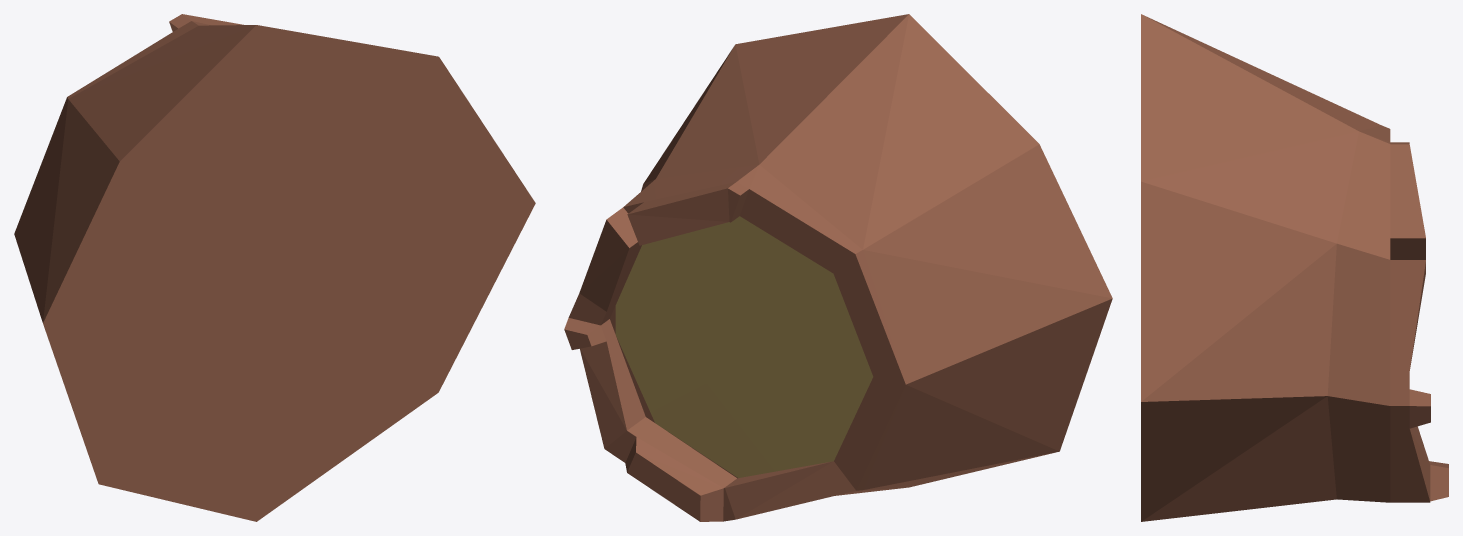
The model's file is Pine1Stump.fbx.
The picture shows the model from 3 angles, left to right: view 1: azimuth 30°, elevation 25°; view 2: azimuth 150°, elevation 25°; view 3: azimuth 270°, elevation 25°; orthographic projection. The views are drawn at different scales.
Parts seen in each view (by area): view 1: Pine1Stump; view 2: Pine1Stump; view 3: Pine1Stump.
Boxes of the visible parts, x1=… form: Pine1Stump: x1=14, y1=14, x2=535, y2=521; Pine1Stump: x1=564, y1=14, x2=1112, y2=521; Pine1Stump: x1=1141, y1=14, x2=1448, y2=521.
Bounding box in the file's own units: 171 × 165 × 91.08.
